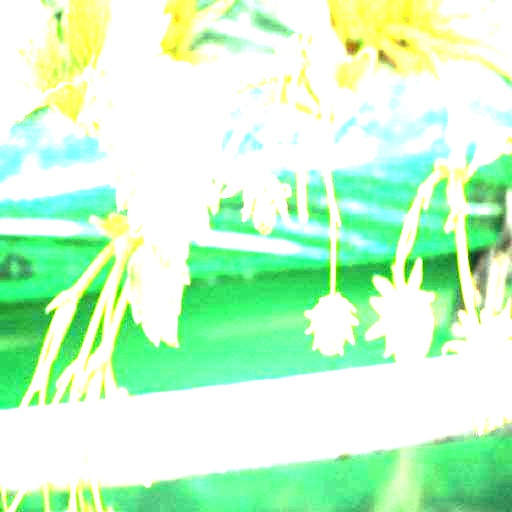Gray Mold: (219, 164, 292, 235)
